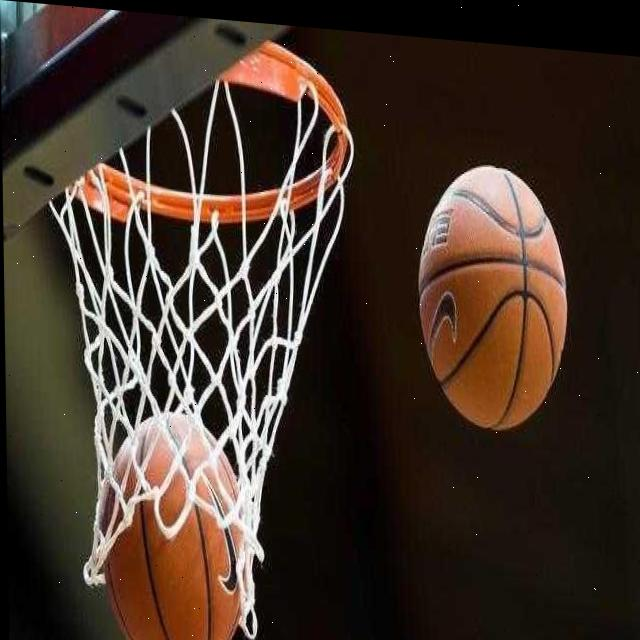Basketball: (418, 158, 571, 438)
Goal: (101, 407, 247, 640)
